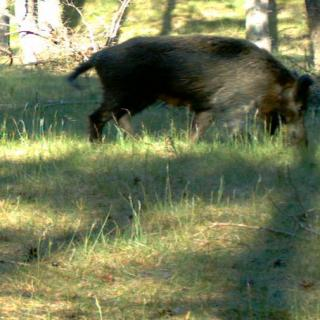Pig: (68, 32, 320, 160)
